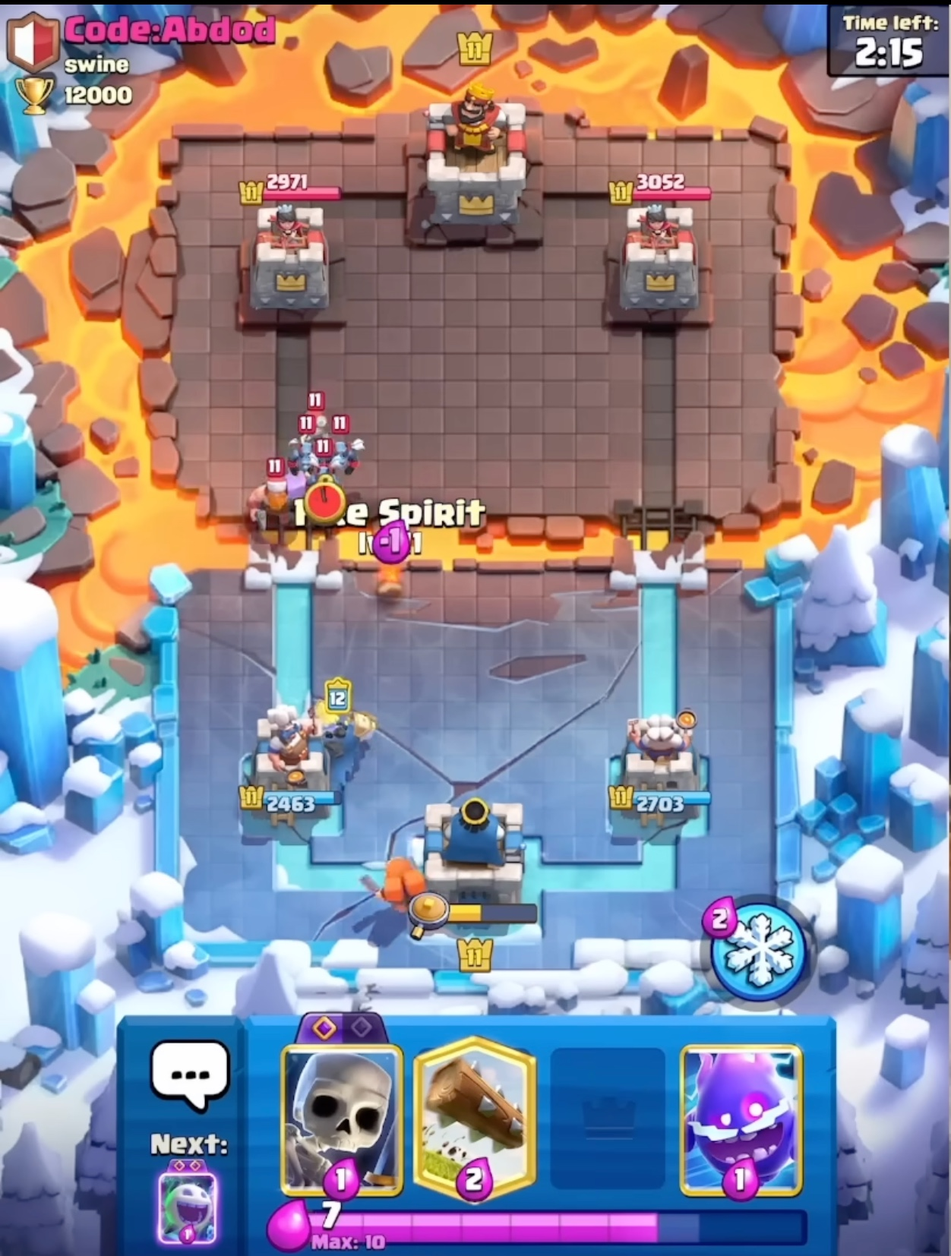hero_ice_golem: (298, 671, 378, 786)
